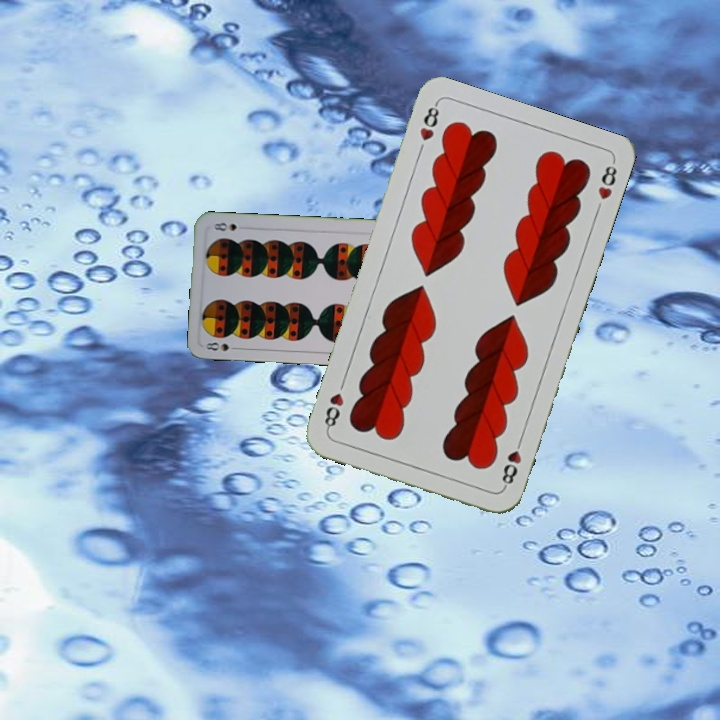H8: (497, 433, 525, 491), (415, 99, 442, 144)
S8: (202, 338, 242, 354)
